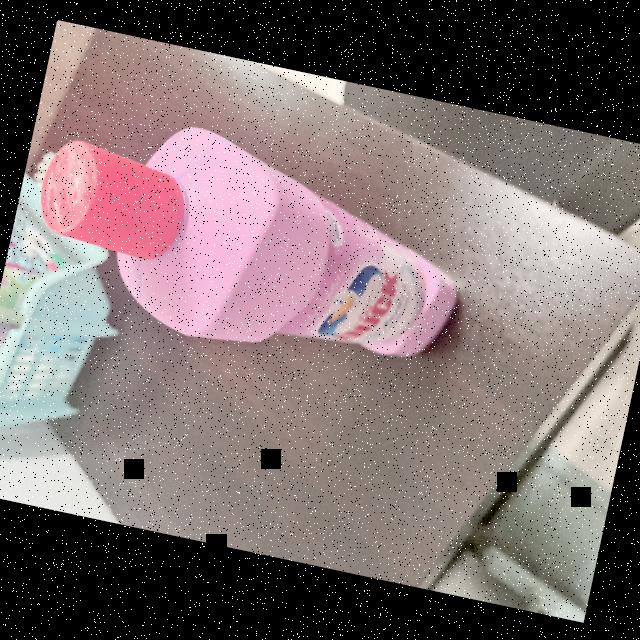chemical_plastic_bottle: (14, 93, 482, 390)
